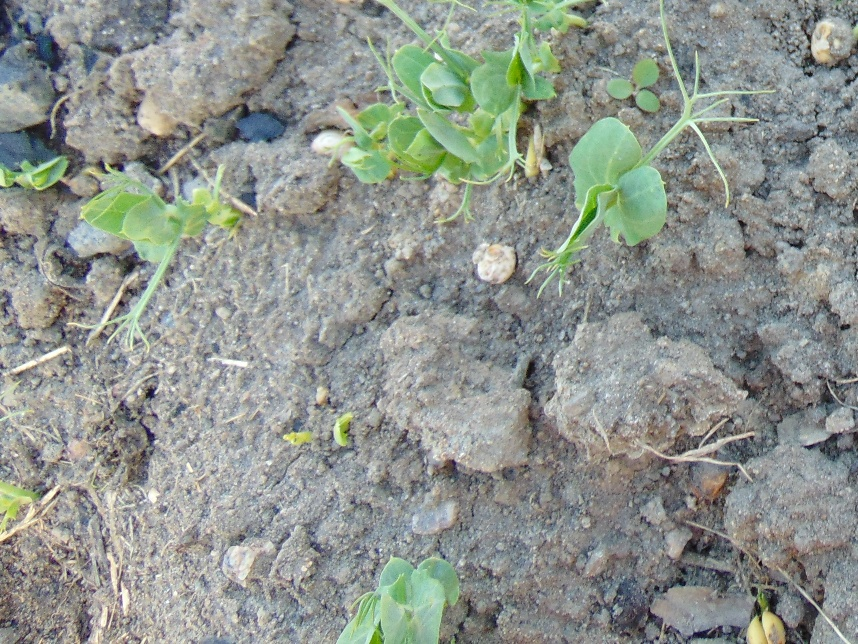crop: (521, 59, 769, 291), (328, 1, 576, 232), (78, 152, 269, 359), (326, 552, 457, 644), (1, 149, 67, 190), (745, 585, 785, 644), (1, 482, 34, 519)
weed: (606, 57, 665, 117)
